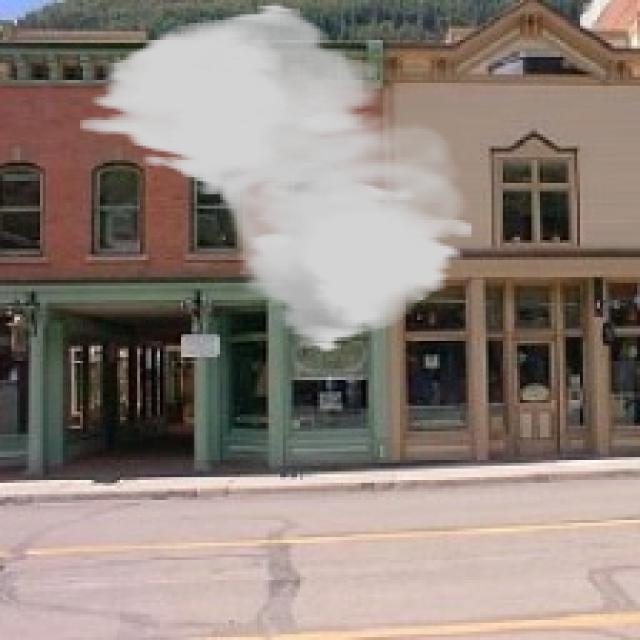Smoke: (80, 2, 474, 354)
